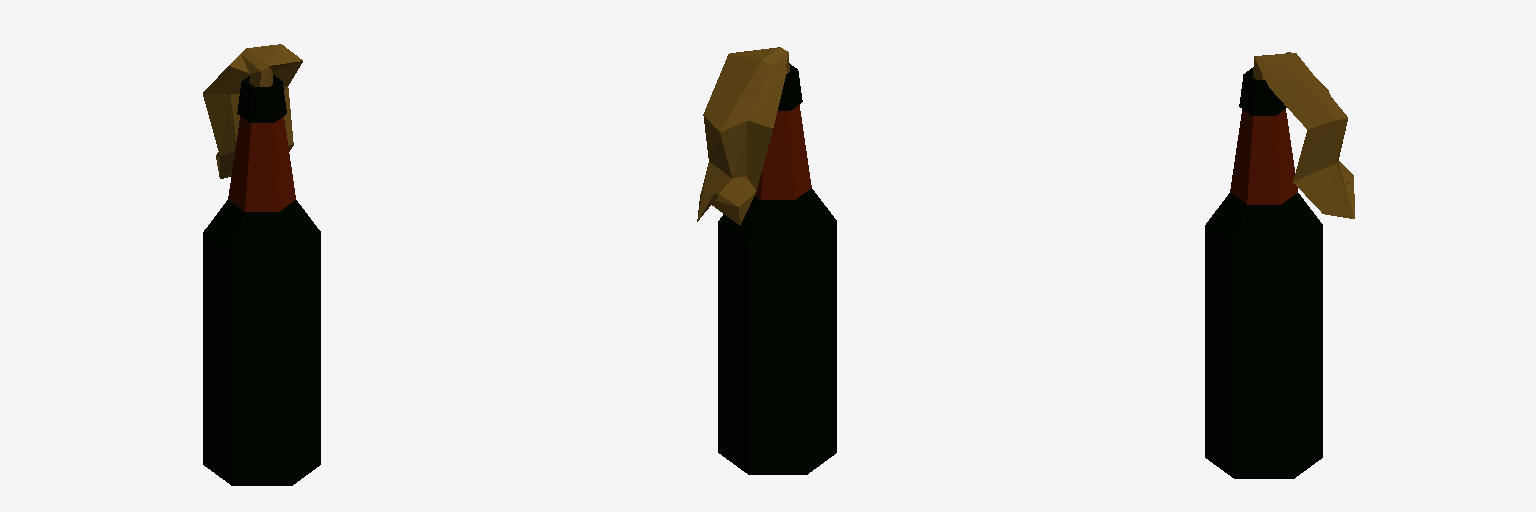
File: Molotov_Cocktail.obj
3 renders of one model, left to right at view 1: azimuth 30°, elevation 25°; view 2: azimuth 150°, elevation 25°; view 3: azimuth 270°, elevation 25°, orthographic.
Visible parts, largest first — view 1: Molotov_Cocktail_Cylinder.002; view 2: Molotov_Cocktail_Cylinder.002; view 3: Molotov_Cocktail_Cylinder.002.
Boxes of the visible parts, box(x1,y1,x2,y2) form: Molotov_Cocktail_Cylinder.002: box(203, 44, 320, 485); Molotov_Cocktail_Cylinder.002: box(697, 47, 836, 474); Molotov_Cocktail_Cylinder.002: box(1205, 52, 1354, 478).
Size of the model in its own units: 0.044 by 0.1833 by 0.0618.